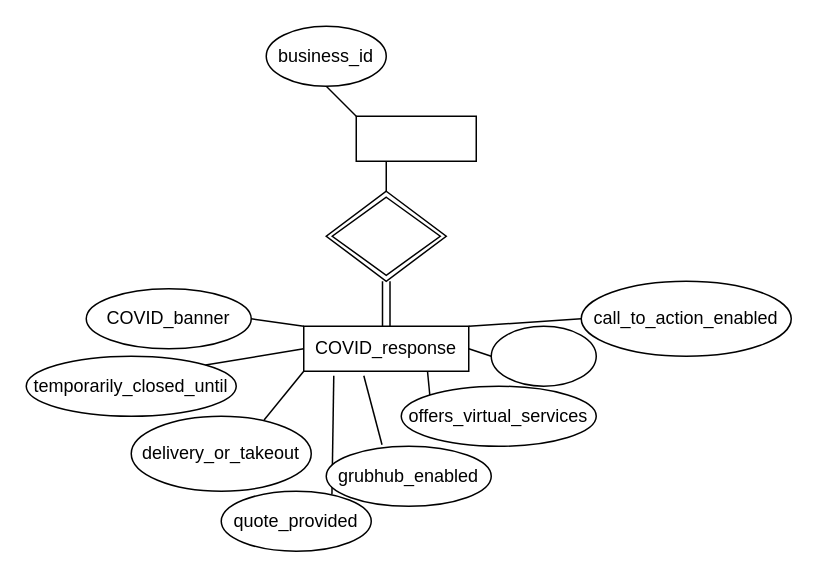
The diagram is 818 pixels wide and 578 high, and some of its shapes have lost their labels. The shapes that lost their labels are listed below. From the top down, each one's box as (x1, y1, x2, y2) in pixels, then its label:
(355, 115, 476, 161): Restaurant
(325, 190, 446, 281): has
(490, 325, 596, 386): highlights
